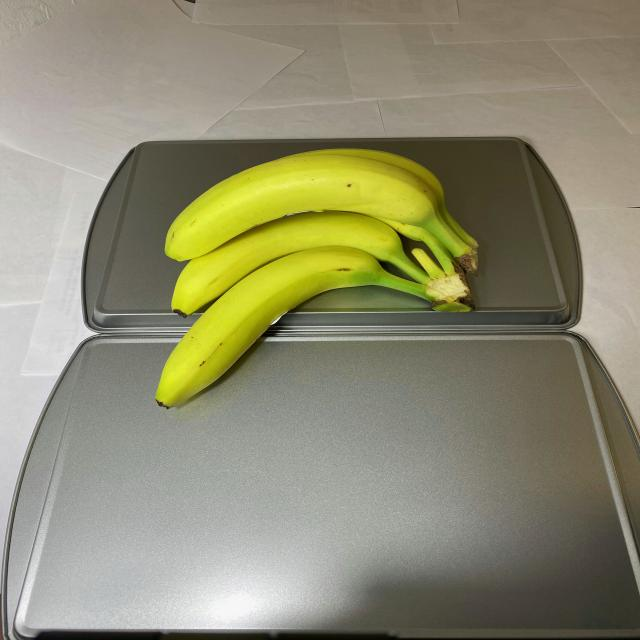Banana: (150, 145, 483, 408)
